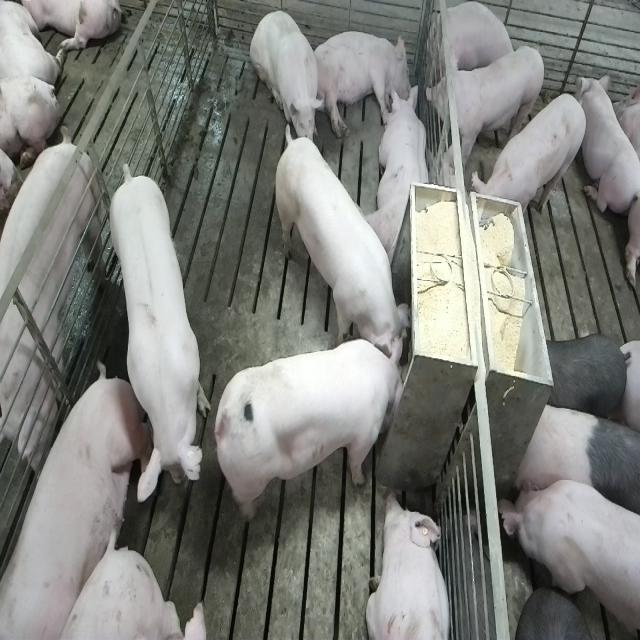Feeding: (212, 342, 408, 530), (274, 125, 408, 369)
Lateral_lying: (5, 362, 146, 636), (311, 29, 413, 139)
Sitting: (250, 8, 326, 154)
Standing: (0, 124, 105, 480), (108, 156, 210, 508), (498, 475, 638, 640), (473, 91, 588, 238), (424, 41, 546, 169), (513, 400, 638, 520), (540, 332, 630, 432), (518, 588, 606, 640)
Sternal_lying: (366, 490, 454, 640), (369, 84, 433, 266), (580, 72, 638, 222), (432, 3, 516, 85)
